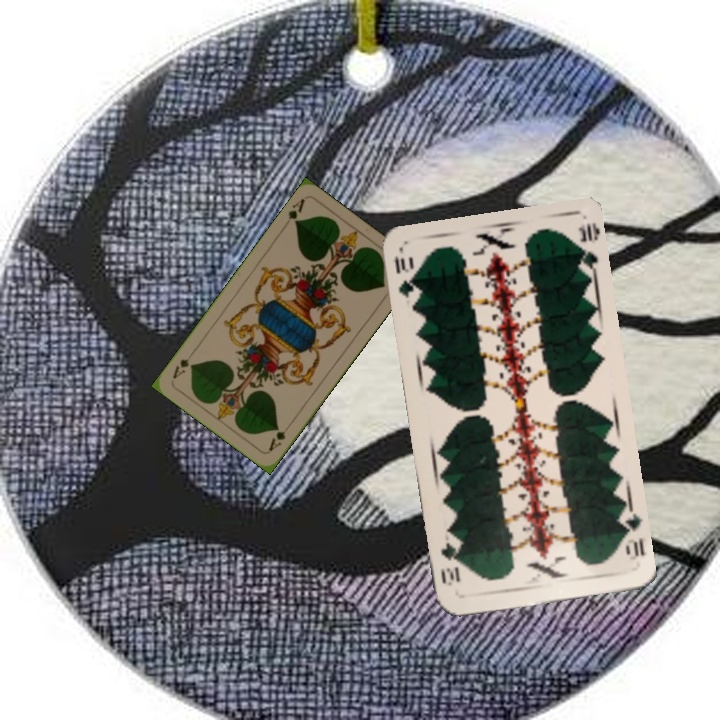G10: (615, 506, 648, 563), (390, 251, 419, 300)
GA: (284, 194, 308, 227), (264, 424, 288, 454)
